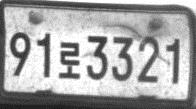1: (164, 36, 180, 85), (36, 32, 52, 78)
2: (137, 36, 160, 83)
3: (111, 35, 134, 82), (86, 34, 108, 80)
9: (9, 32, 31, 77)
로: (58, 40, 82, 80)
